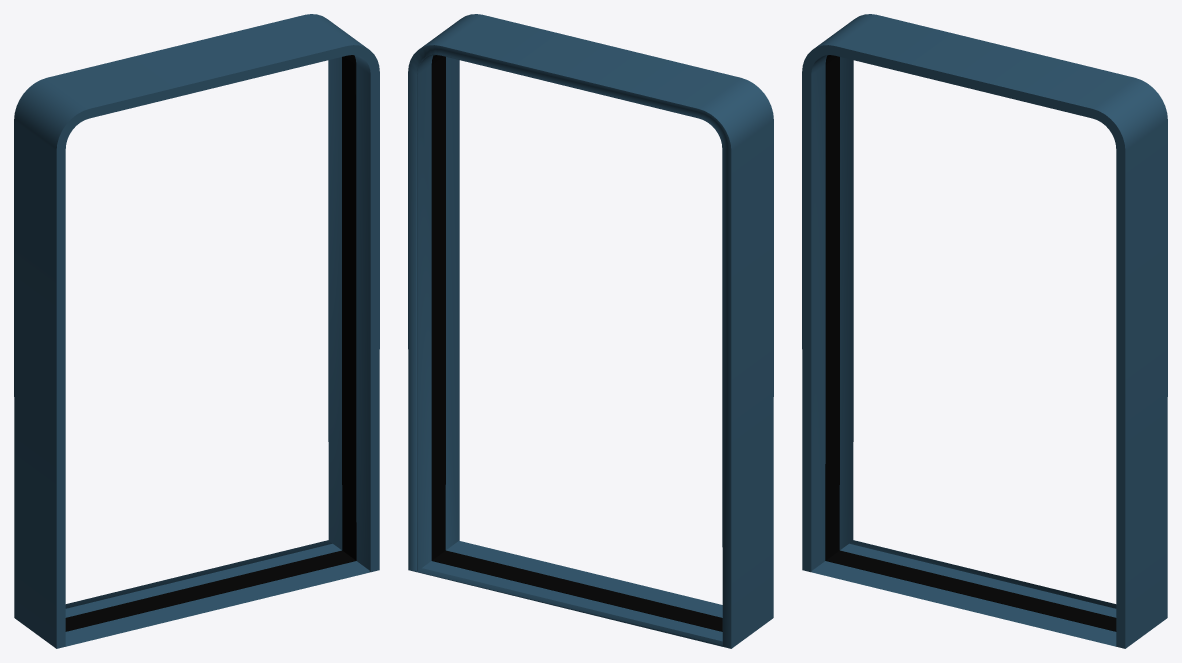
Rendered from door_double.glb.
3 renders of one model, left to right at view 1: azimuth 30°, elevation 25°; view 2: azimuth 150°, elevation 25°; view 3: azimuth 330°, elevation 25°, orthographic.
Visible parts, largest first — view 1: DoubleDoorFrame, DoorDoubleInside; view 2: DoubleDoorFrame, DoorDoubleInside; view 3: DoubleDoorFrame, DoorDoubleInside.
Boxes of the visible parts, box(x1,y1,x2,y2) form: DoubleDoorFrame: box(14, 14, 379, 648); DoorDoubleInside: box(65, 55, 356, 631); DoubleDoorFrame: box(408, 14, 773, 648); DoorDoubleInside: box(431, 55, 722, 631); DoubleDoorFrame: box(802, 14, 1167, 648); DoorDoubleInside: box(825, 55, 1116, 631).
Bounding box in the file's own units: 3.01 × 4.74 × 0.688.
